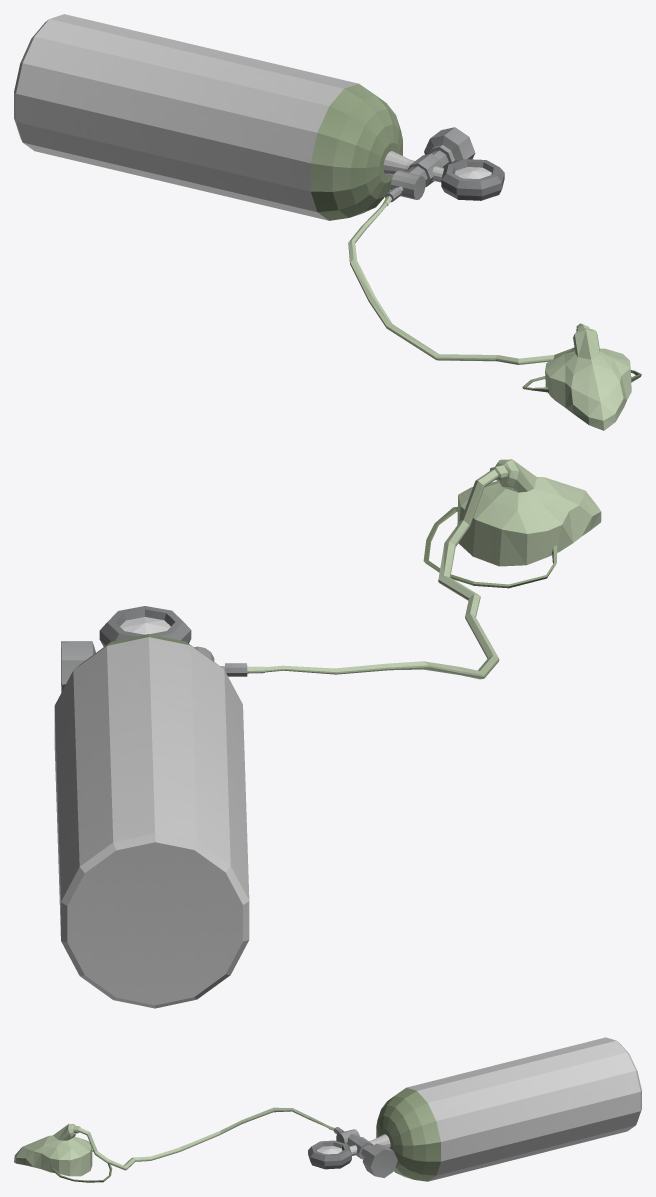
Rendered from breathing_aparatus.obj.
The picture shows the model from 3 angles, top to bottom: view 1: azimuth 30°, elevation 25°; view 2: azimuth 150°, elevation 25°; view 3: azimuth 270°, elevation 25°; orthographic projection. The views are drawn at different scales.
Visible parts, largest first — view 1: o2_bomb_Material, breathing_mask_Material; view 2: o2_bomb_Material, breathing_mask_Material; view 3: o2_bomb_Material, breathing_mask_Material.
Boxes of the visible parts, <box> form: o2_bomb_Material: <box>14,14,504,220</box>; breathing_mask_Material: <box>348,196,641,430</box>; o2_bomb_Material: <box>54,606,249,1008</box>; breathing_mask_Material: <box>247,459,601,679</box>; o2_bomb_Material: <box>308,1037,641,1181</box>; breathing_mask_Material: <box>14,1107,334,1182</box>.
Bounding box in the file's own units: 0.2595 × 0.1058 × 0.688.
